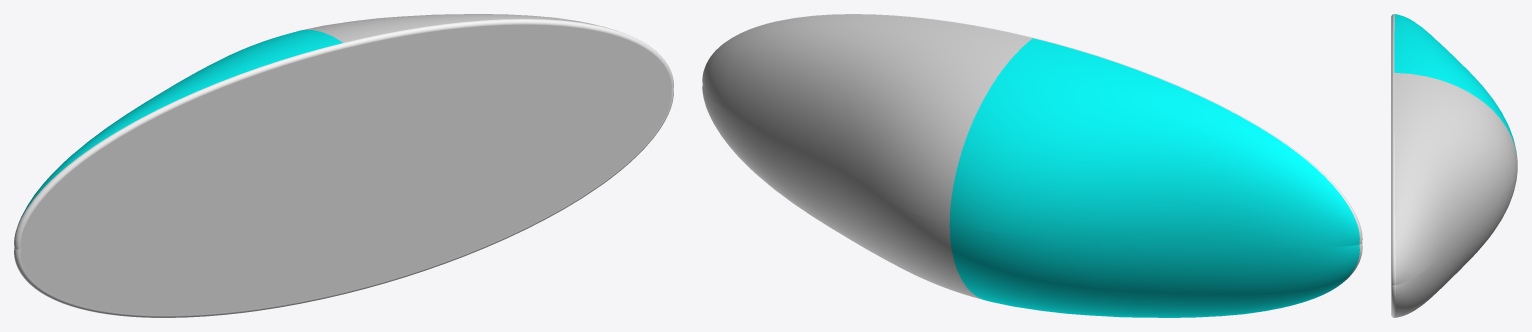
Rendered from solarcarcanopyfinal.glb.
3 renders of one model, left to right at view 1: azimuth 30°, elevation 25°; view 2: azimuth 150°, elevation 25°; view 3: azimuth 270°, elevation 25°, orthographic. The views are drawn at different scales.
Visible parts, largest first — view 1: solarcarcanopyfinal; view 2: solarcarcanopyfinal; view 3: solarcarcanopyfinal.
Boxes of the visible parts, bbox=[...] form: solarcarcanopyfinal: bbox=[14, 14, 673, 317]; solarcarcanopyfinal: bbox=[702, 14, 1362, 317]; solarcarcanopyfinal: bbox=[1391, 14, 1517, 317].
Bounding box in the file's own units: 1.78 × 0.6498 × 0.4.
